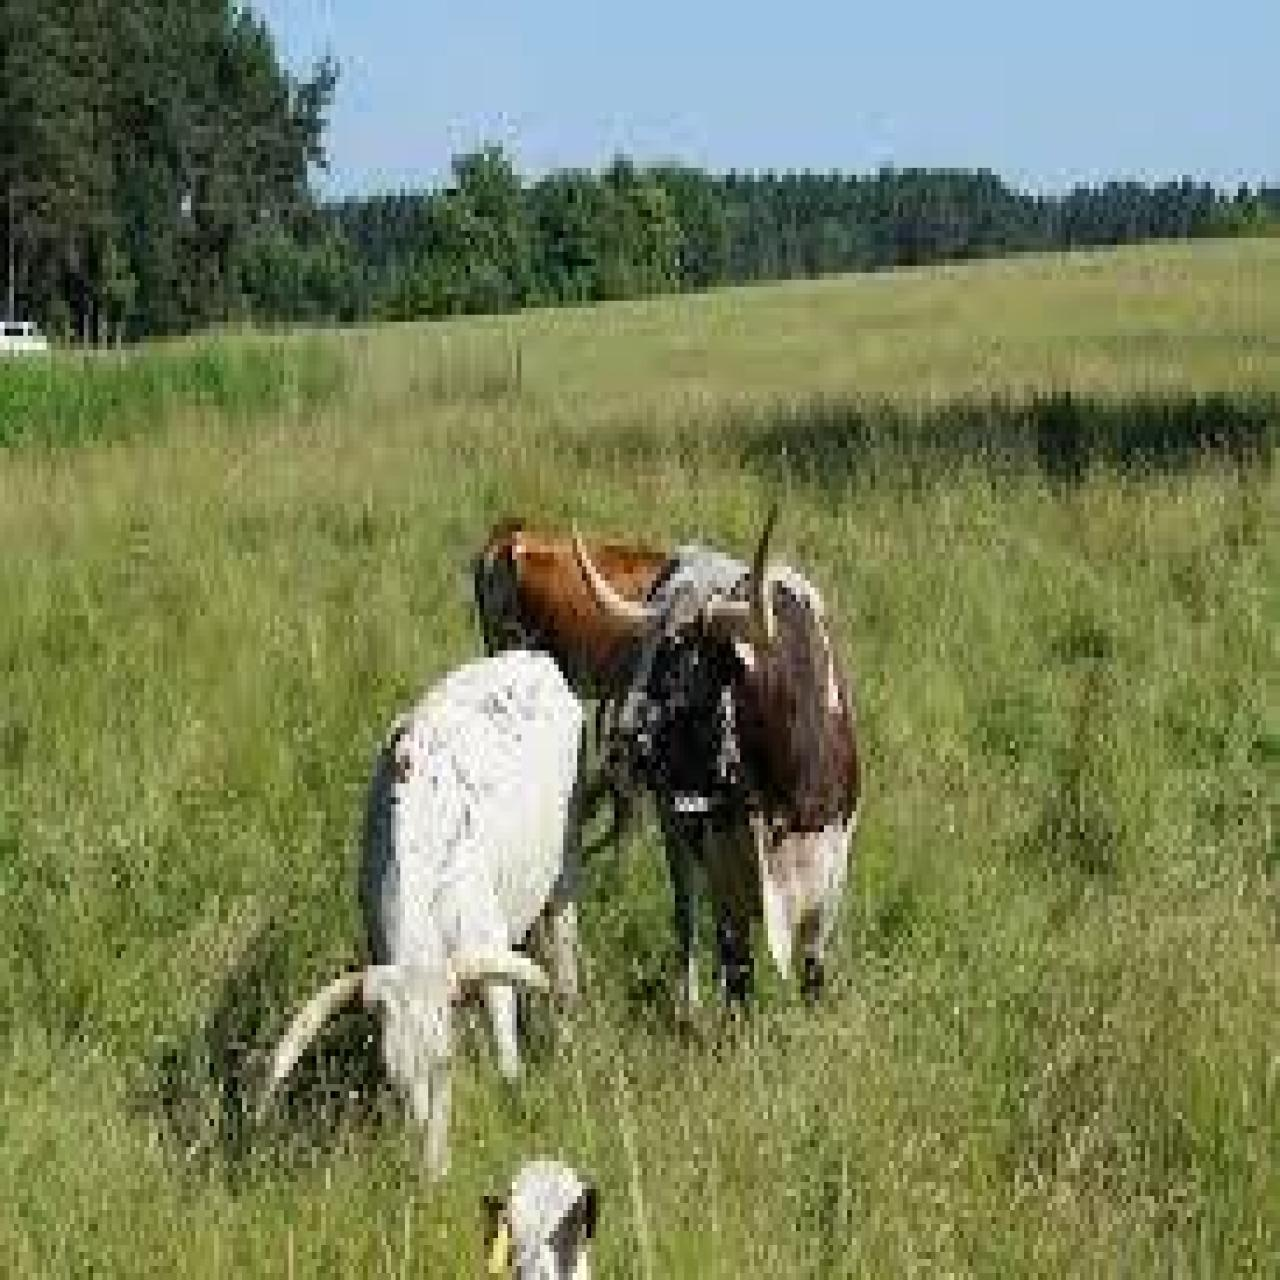cow: (356, 651, 580, 1189), (640, 546, 859, 979), (482, 518, 691, 720), (486, 1168, 603, 1280)
